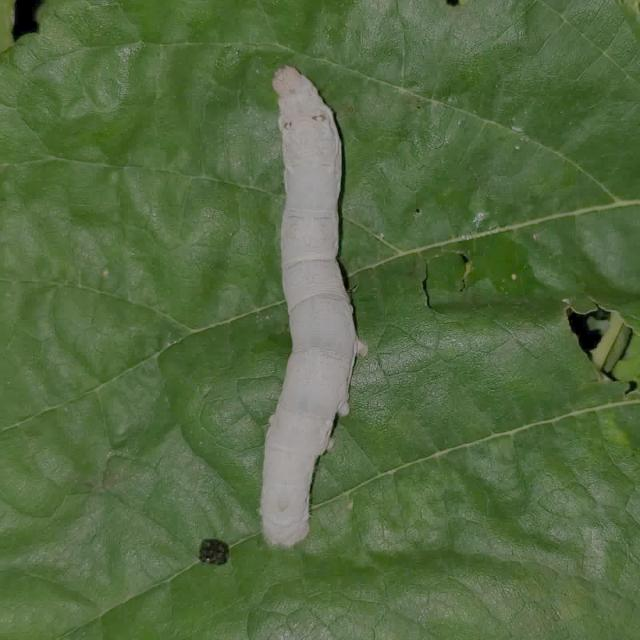Healthy: (224, 46, 419, 563)
